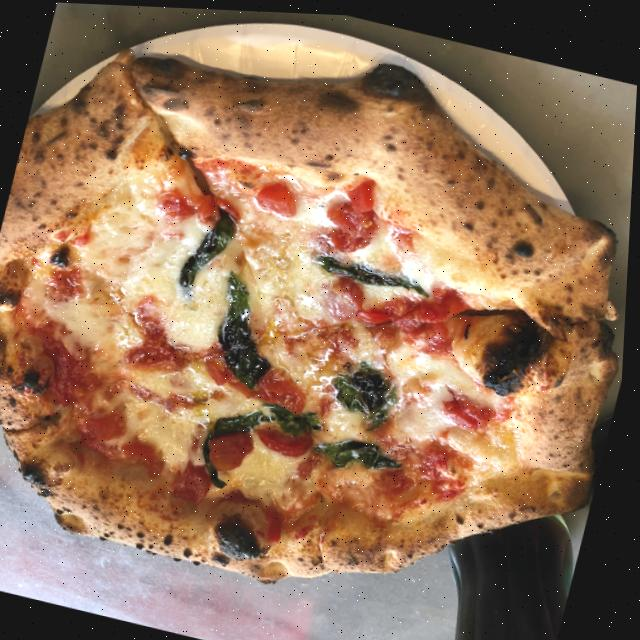basil: (182, 381, 337, 508), (203, 265, 295, 389), (326, 350, 419, 434), (176, 202, 242, 298), (310, 250, 436, 298), (317, 419, 413, 478)
pizza: (0, 10, 640, 640)
tomatoes: (207, 424, 258, 472), (323, 195, 378, 236), (257, 424, 314, 459), (265, 368, 310, 412), (326, 273, 364, 321), (258, 174, 299, 214), (327, 222, 371, 253), (347, 179, 376, 209), (359, 304, 392, 324)
